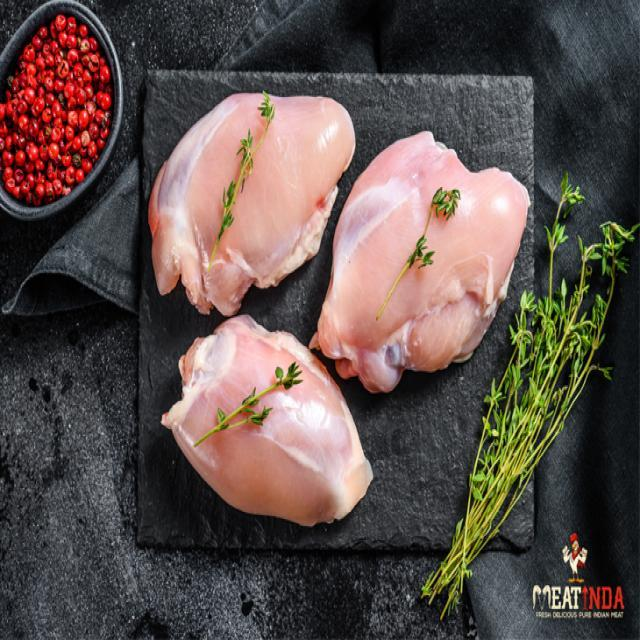thigh: (331, 123, 537, 384), (148, 316, 370, 538), (148, 78, 336, 295)
